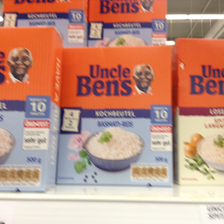rice: (56, 45, 175, 187), (1, 27, 63, 192), (174, 37, 224, 186)
